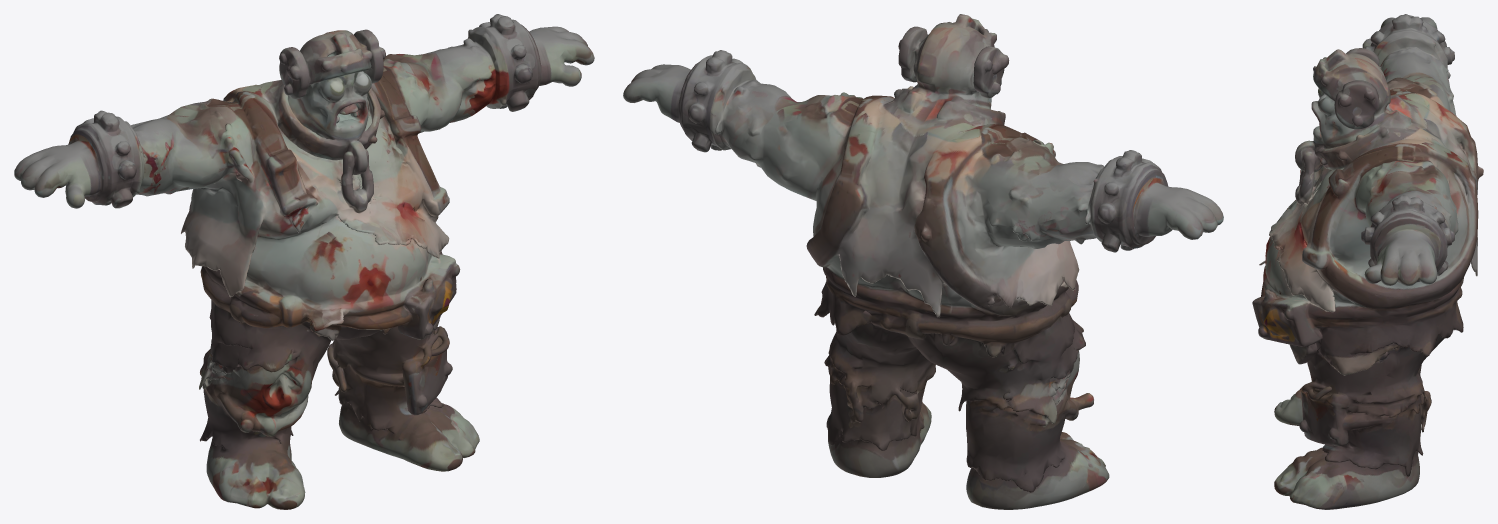
Rendered from tripo_convert_2b99b395-9234-465e-9cf3-2dd32c4de928.fbx.
3 views of the same model, side by side, from view 1: azimuth 30°, elevation 25°; view 2: azimuth 150°, elevation 25°; view 3: azimuth 270°, elevation 25° (orthographic). The views are drawn at different scales.
Visible parts, largest first — view 1: tripo_node_2b99b395; view 2: tripo_node_2b99b395; view 3: tripo_node_2b99b395.
Boxes of the visible parts, x1,y1,x2,y2 form: tripo_node_2b99b395: [14, 14, 594, 509]; tripo_node_2b99b395: [623, 14, 1223, 509]; tripo_node_2b99b395: [1252, 14, 1483, 509].
Bounding box in the file's own units: 100 × 37.9 × 73.41.
Materials: 1 (1 with a texture image).
